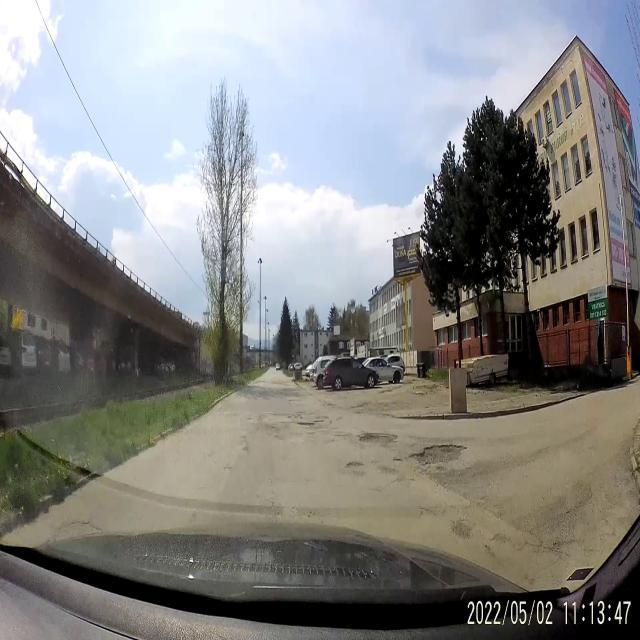Pothole: (409, 438, 467, 469), (356, 424, 399, 450), (298, 416, 326, 432), (344, 454, 366, 474), (390, 452, 406, 466)
